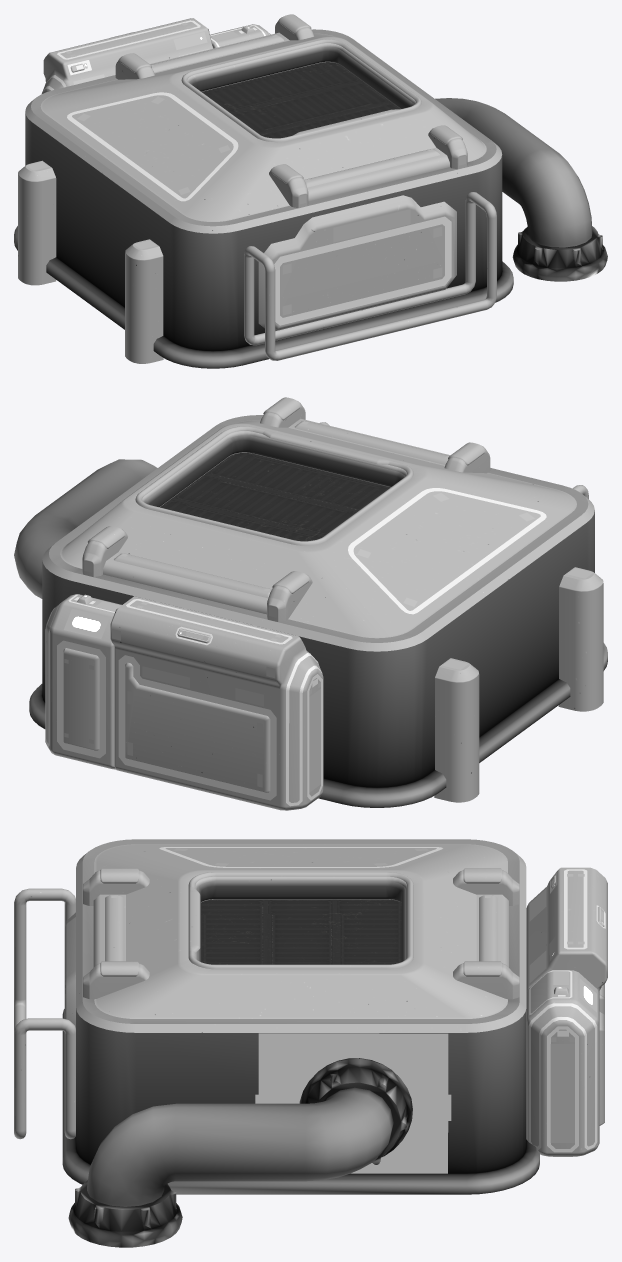
Rendered from SM_Construction_9_Merged.fbx.
3 views of the same model, one above another, from view 1: azimuth 30°, elevation 25°; view 2: azimuth 150°, elevation 25°; view 3: azimuth 270°, elevation 25° (orthographic). The views are drawn at different scales.
Parts seen in each view (by area): view 1: SM_Construction_9_Merged_LOD0; view 2: SM_Construction_9_Merged_LOD0; view 3: SM_Construction_9_Merged_LOD0.
Boxes of the visible parts, x1=… form: SM_Construction_9_Merged_LOD0: x1=14, y1=14, x2=607, y2=368; SM_Construction_9_Merged_LOD0: x1=14, y1=397, x2=607, y2=810; SM_Construction_9_Merged_LOD0: x1=14, y1=839, x2=607, y2=1247.
Size of the model in its own units: 346 by 328 by 129.
